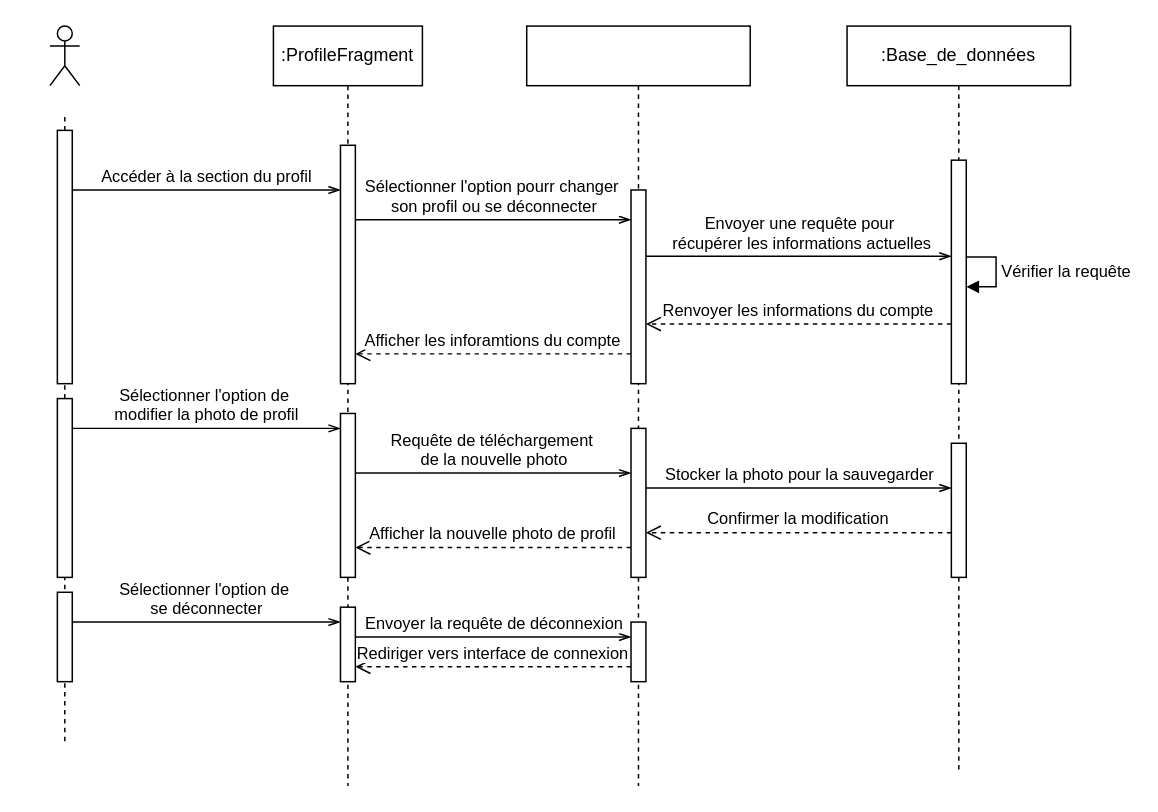
Image size: 1158x812. Some labels were removed from this diagram. Each missing label, with the centre of its shape:
:Système_GestionCompte: (637,405)
Utilisateur: (64,55)
